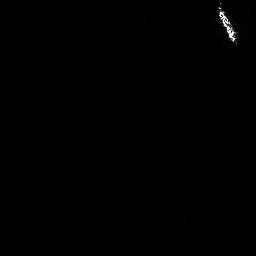ship: (213, 1, 241, 47)
